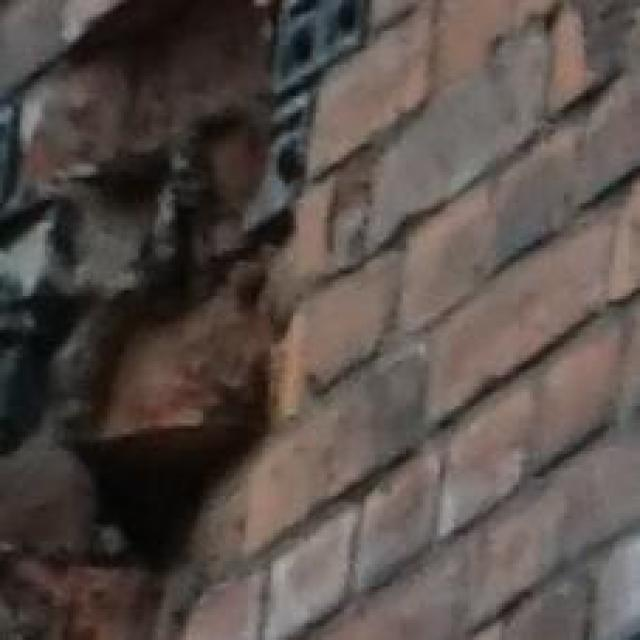Crack: (0, 0, 317, 640)
